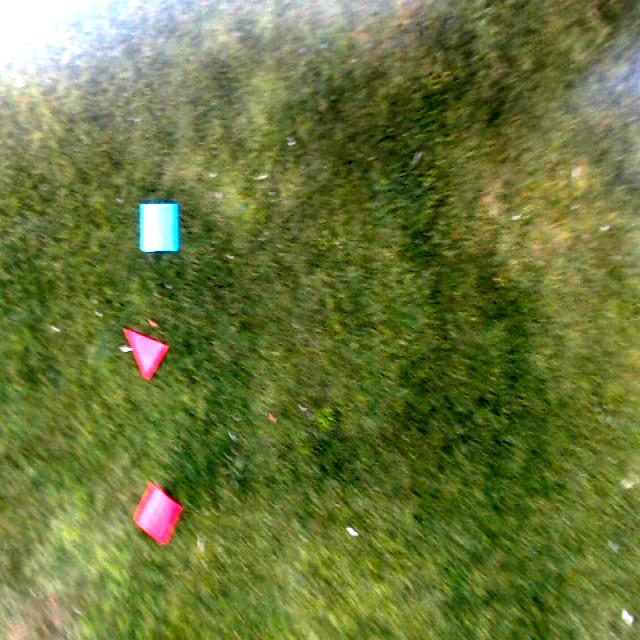blue_square: (138, 203, 180, 254)
red_square: (134, 484, 180, 547)
red_triangle: (124, 326, 168, 381)
